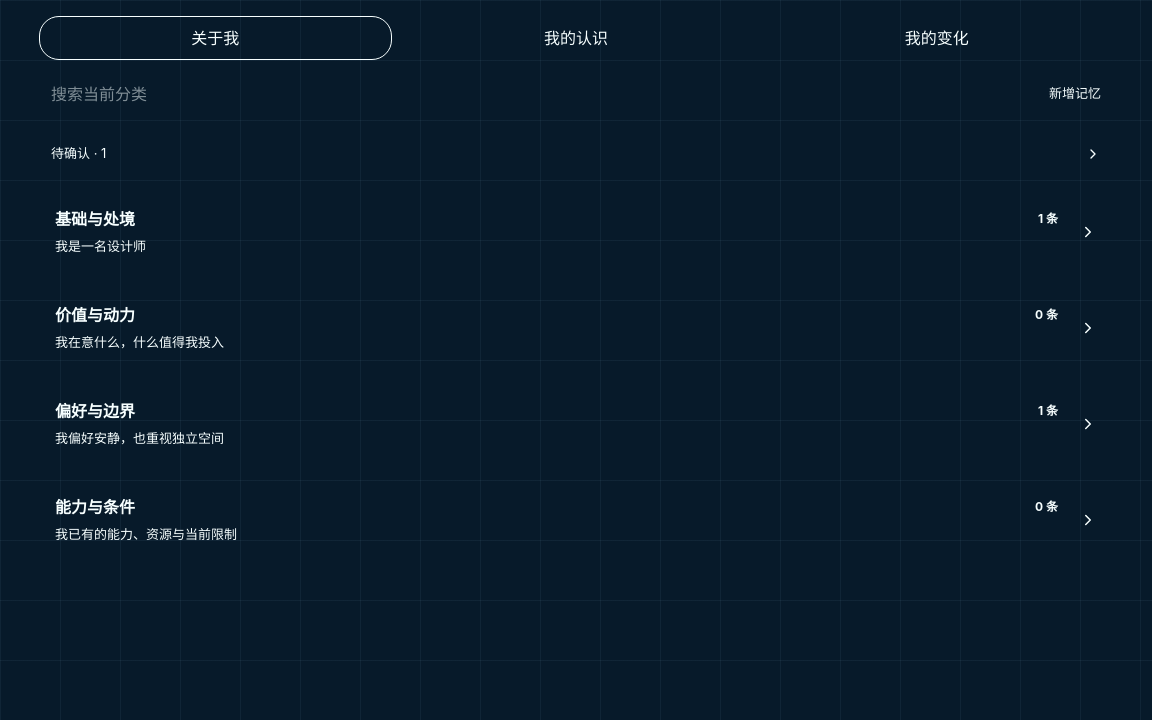
filters about-me categories without duplicating multi-facet memories or hiding pending items
Click the button "偏好与边界 1 条 我偏好安静，也重视独立空间".
click(95, 411)  # box [39,380,1113,468]
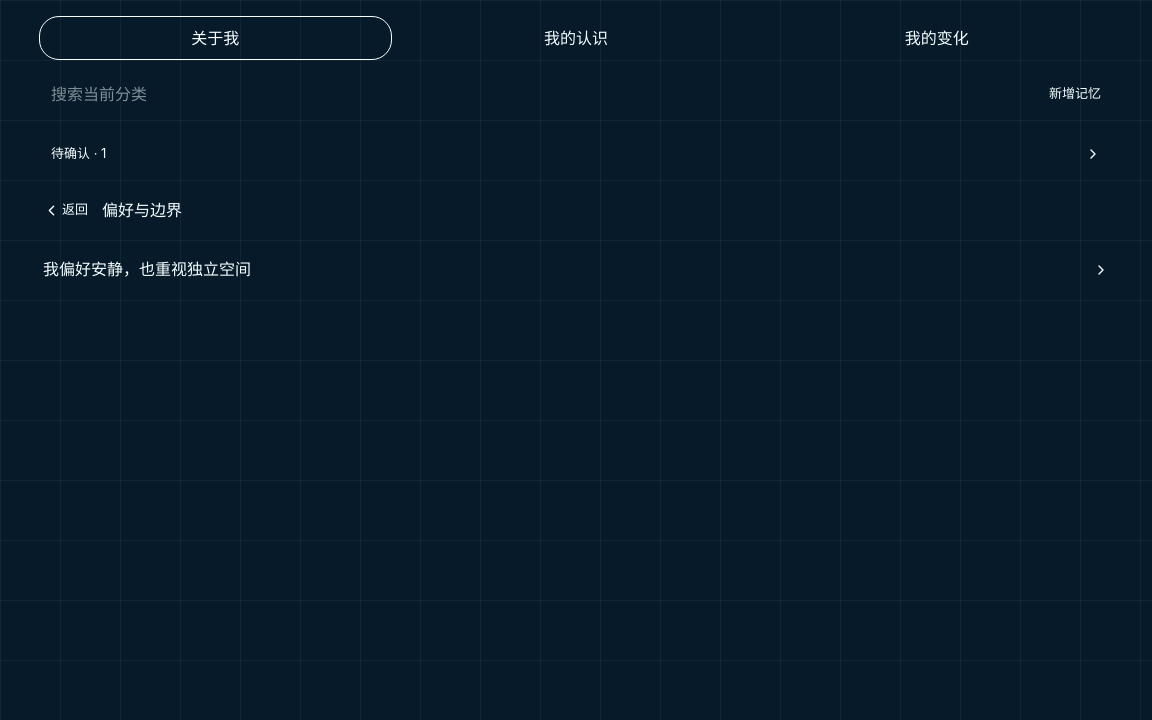
Check: the button "我偏好安静，也重视独立空间" is shown, box [39,236,1113,303]
Check: the button "我是一名设计师" is gone
Click the button "返回".
click(66, 210)  # box [39,190,92,230]
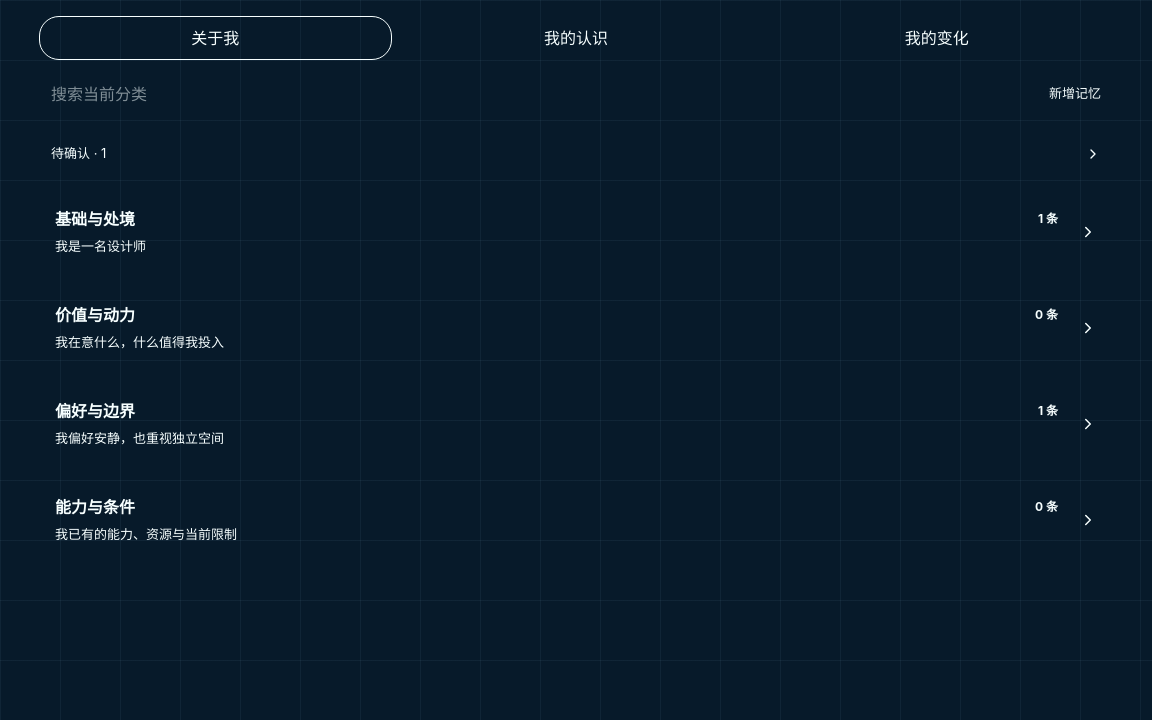
Click the button "基础与处境 1 条 我是一名设计师".
click(95, 219)  # box [39,188,1113,276]
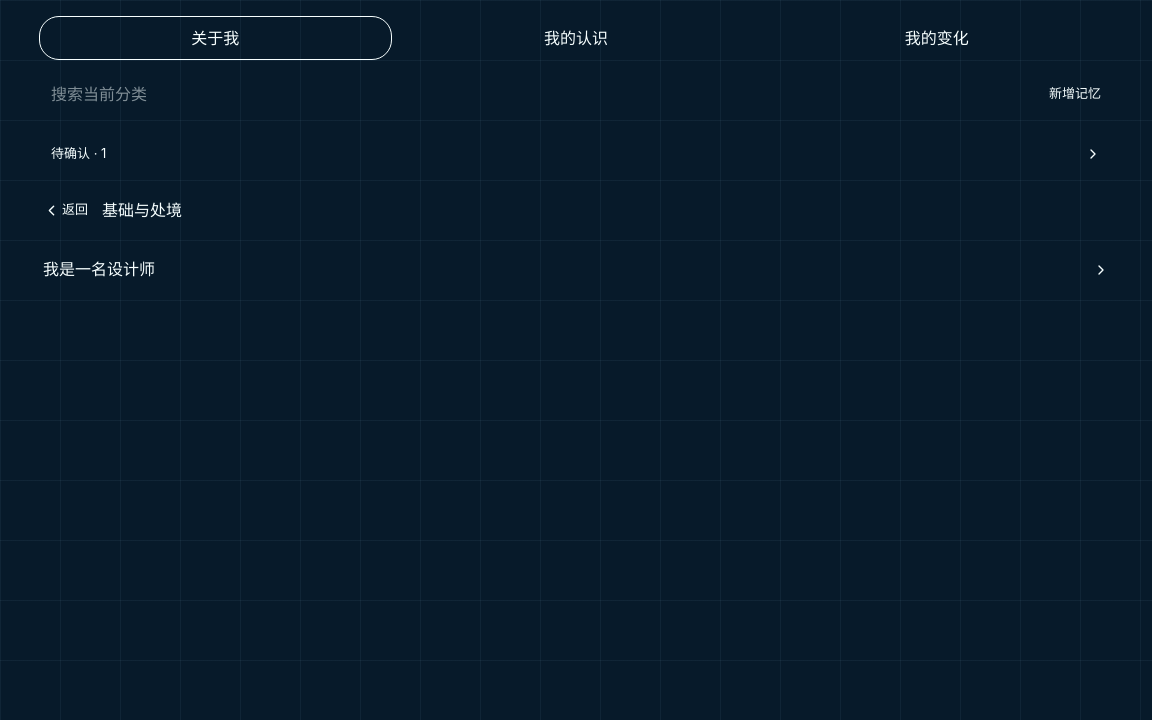
Check: the button "我是一名设计师" is shown, box [39,236,1113,303]
Check: the button "我偏好安静，也重视独立空间" is gone
Click the button "待确认 · 1".
click(79, 153)  # box [39,132,1113,176]
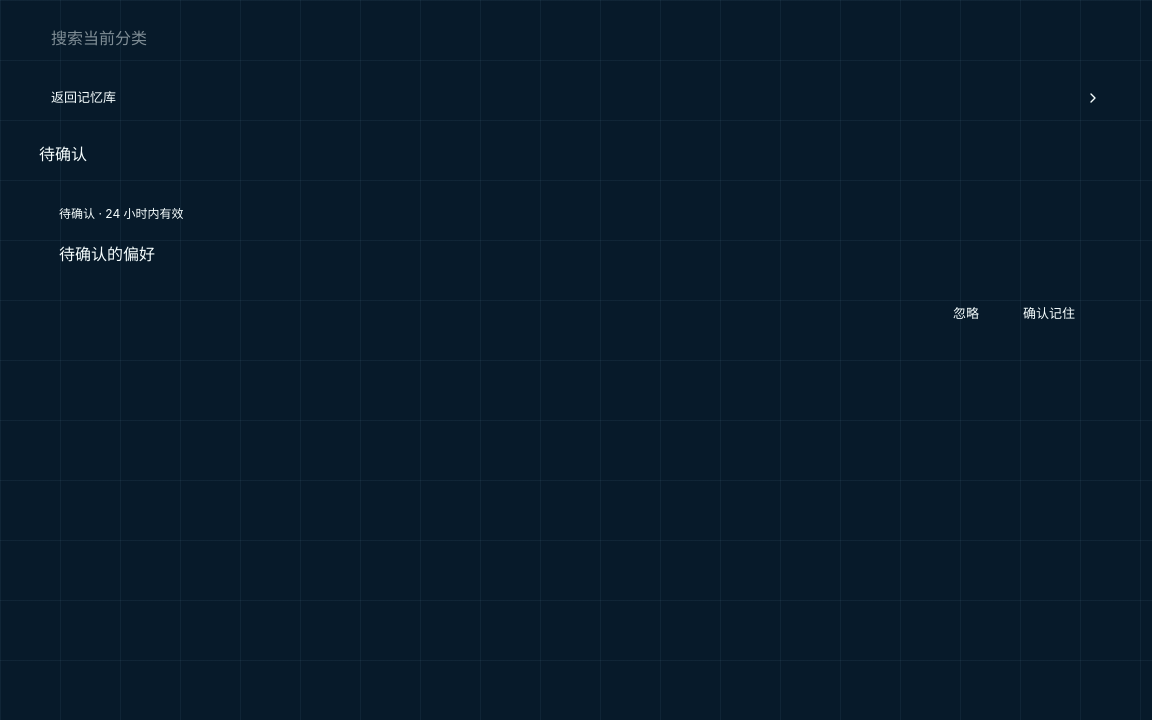
Check: the button "待确认的偏好" is shown, box [59,232,1093,276]
